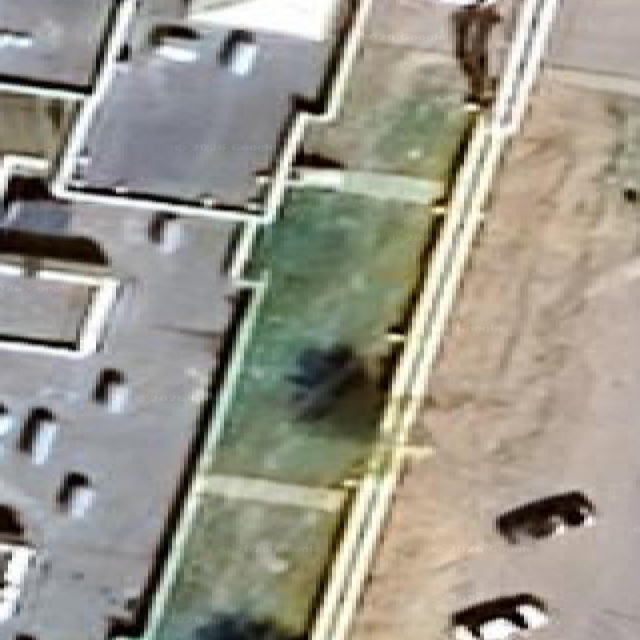car: (496, 492, 595, 543), (452, 594, 547, 639)
